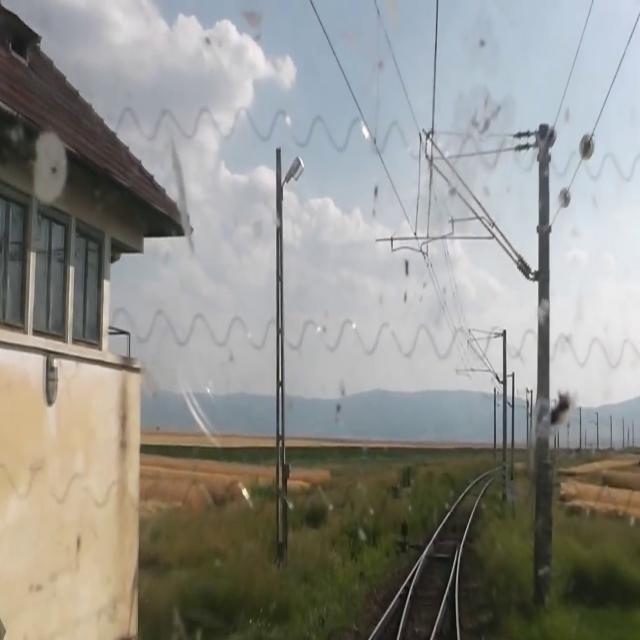rail-track: (402, 480, 484, 639), (375, 591, 405, 639), (435, 587, 455, 639)
